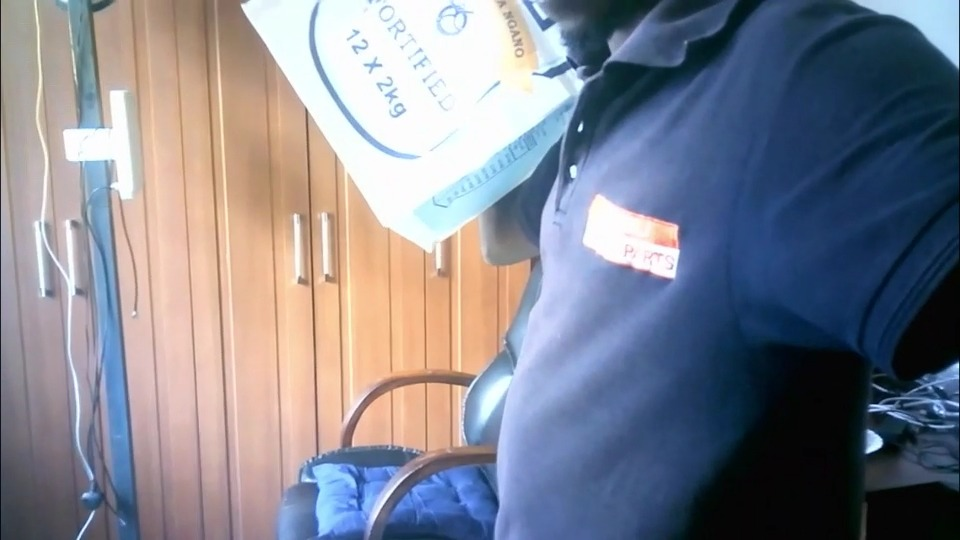wheat_flour_blue_label: (239, 3, 584, 253)
